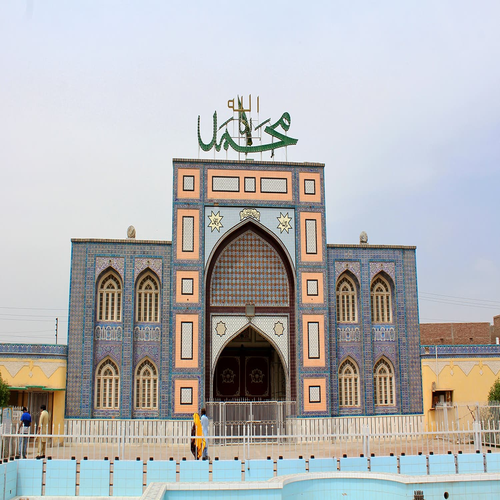Mosque: (32, 88, 446, 444)
